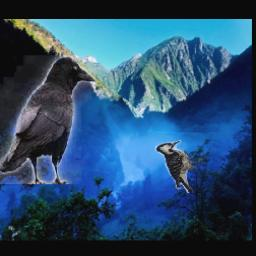Crow: (0, 56, 95, 185)
Woodpecker: (155, 139, 207, 193)
